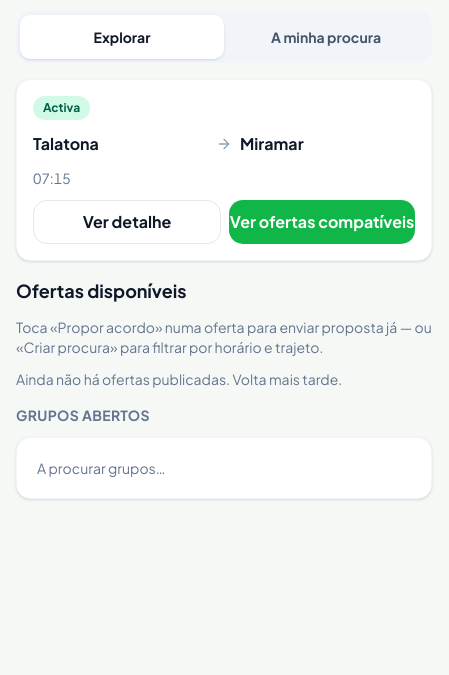
Test: PassengerDashboard — marketplace › empty de matches fala em horário e trajeto — sem «zona»
Click the tab "A minha procura": (326, 37) [224,15,428,59]
(page scrolled)
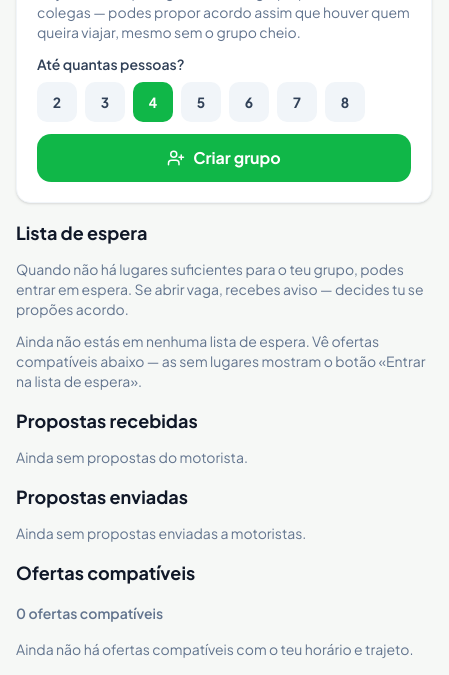
Now the text "Ainda não há ofertas compatíveis com o teu horário e trajeto" is shown, box [16,640,413,658]
